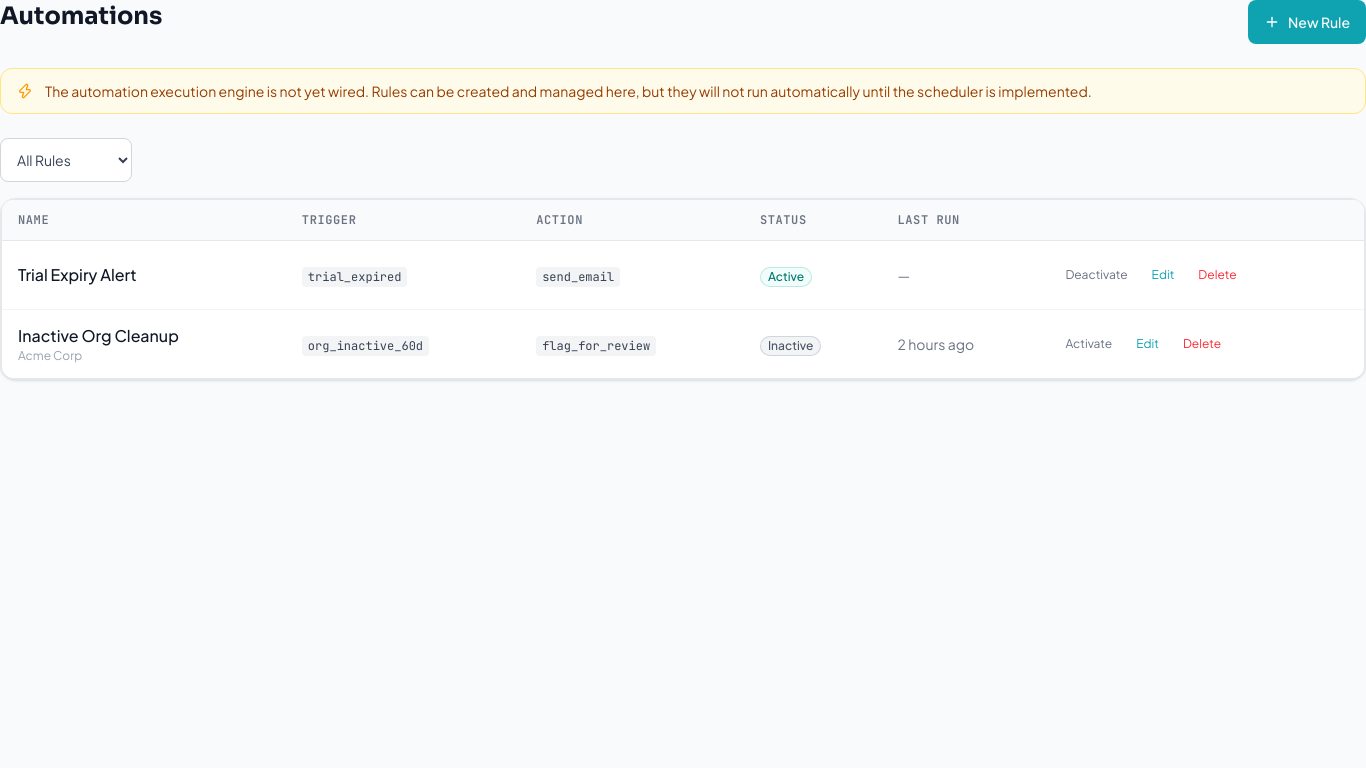
it: Automations page › opens rule editor slide-over when Edit is clicked
Check: the text "Trial Expiry Alert" is shown, box [18,264,136,285]
What coordinates should you click on to do the following:
click the button with aria-label "Edit Trial Expiry Alert"
I would click on:
 (1163, 275)
Its box is [1144,253,1182,297].
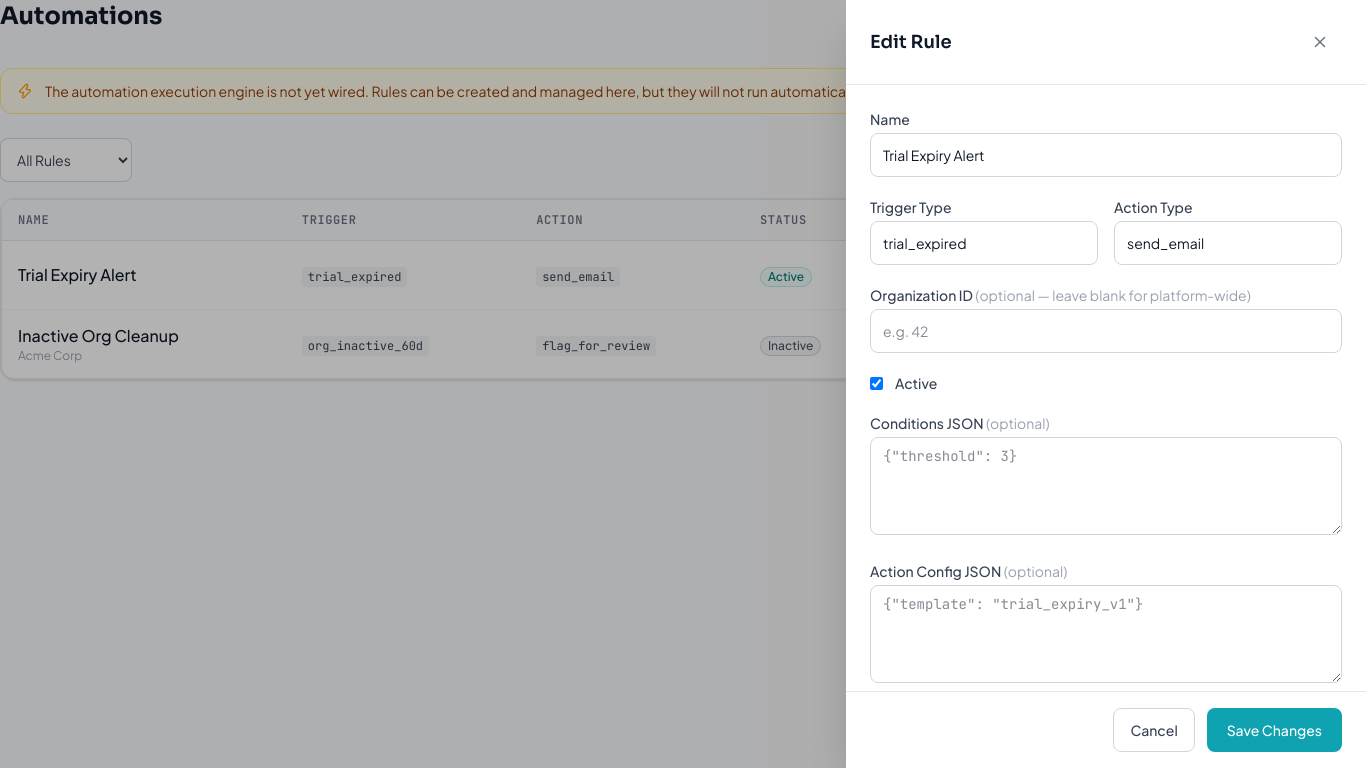
Check: the dialog with test id "rule-editor-slideover" is shown, box [846,0,1365,767]
